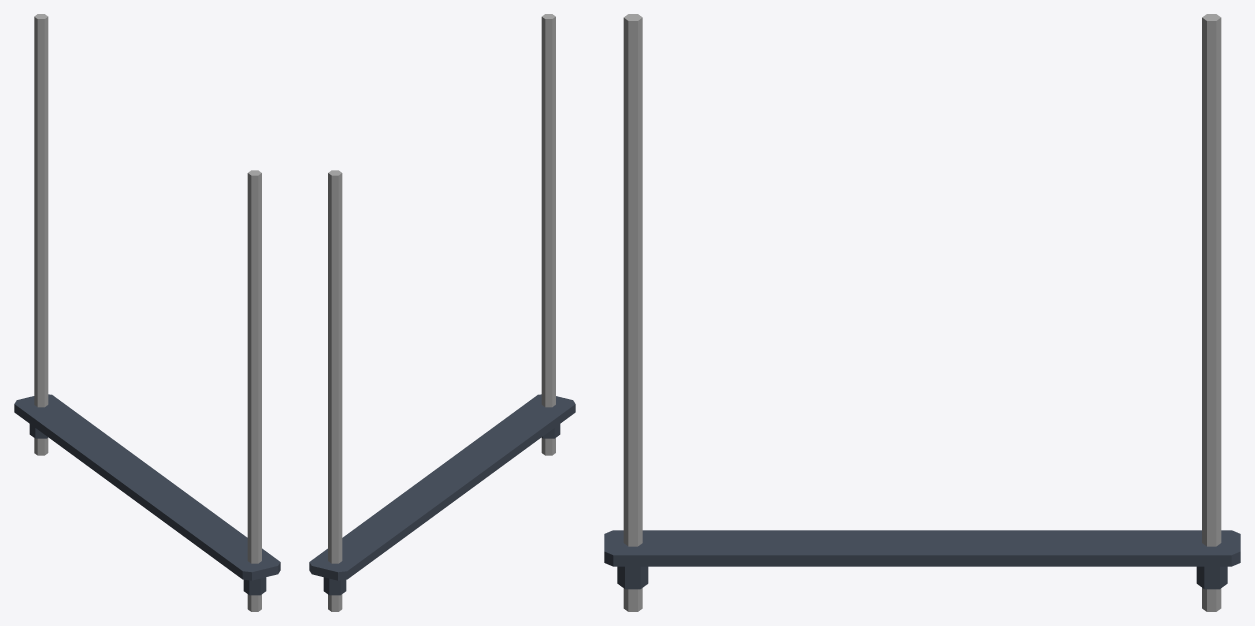
File: strop_drzak.fbx
3 views of the same model, side by side, from view 1: azimuth 30°, elevation 25°; view 2: azimuth 150°, elevation 25°; view 3: azimuth 270°, elevation 25° (orthographic). The views are drawn at different scales.
Parts seen in each view (by area): view 1: strop_drzak; view 2: strop_drzak; view 3: strop_drzak.
Boxes of the visible parts, x1=… form: strop_drzak: x1=14, y1=14, x2=280, y2=611; strop_drzak: x1=309, y1=14, x2=575, y2=611; strop_drzak: x1=604, y1=14, x2=1240, y2=611.
Size of the model in its own units: 3.28 by 36.14 by 35.28.
